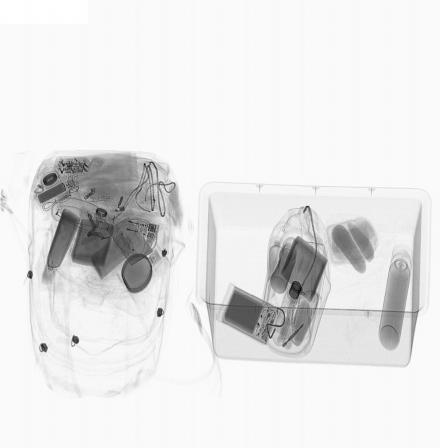Powerbank: (221, 284, 283, 347)
